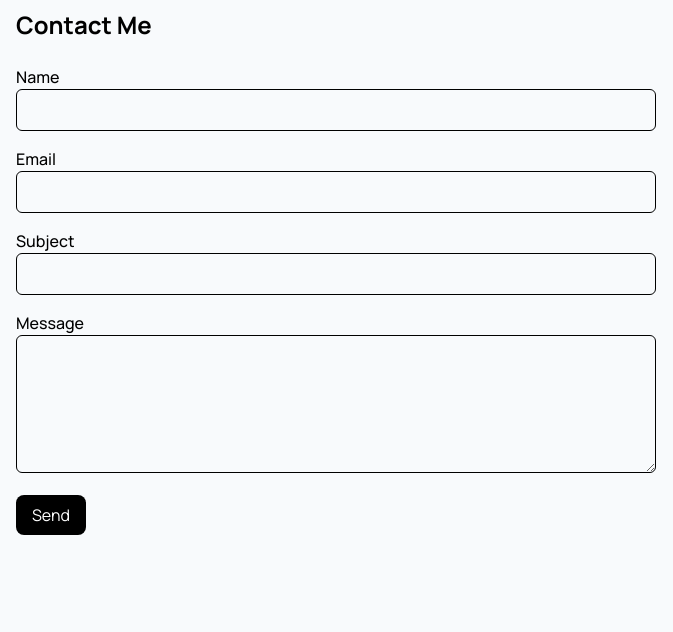
it: ContactForm › shows validation errors for empty fields
What coordinates should you click on to do the following:
click the button "Send"
I would click on:
 (51, 515)
Its box is [16,495,86,535].
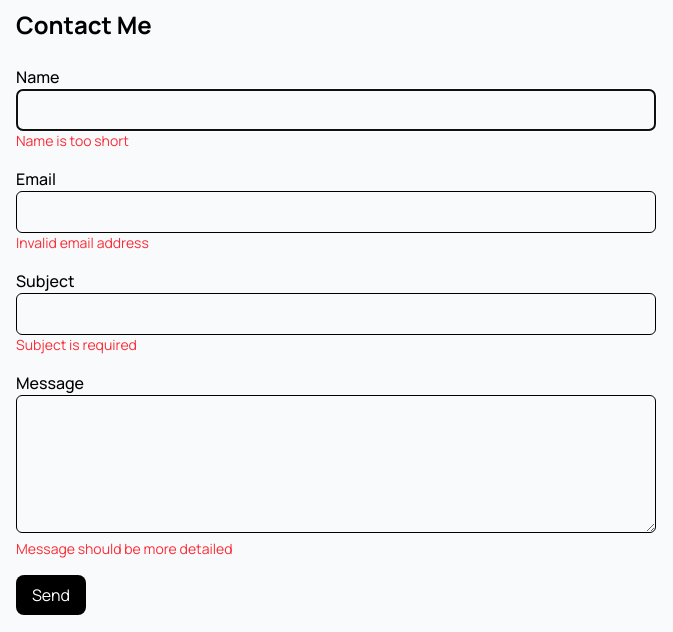
Expected: the text "Name is too short" is shown, [16,131,129,150]
Expected: the text "Invalid email address" is shown, [16,233,149,252]
Expected: the text "Subject is required" is shown, [16,335,137,354]
